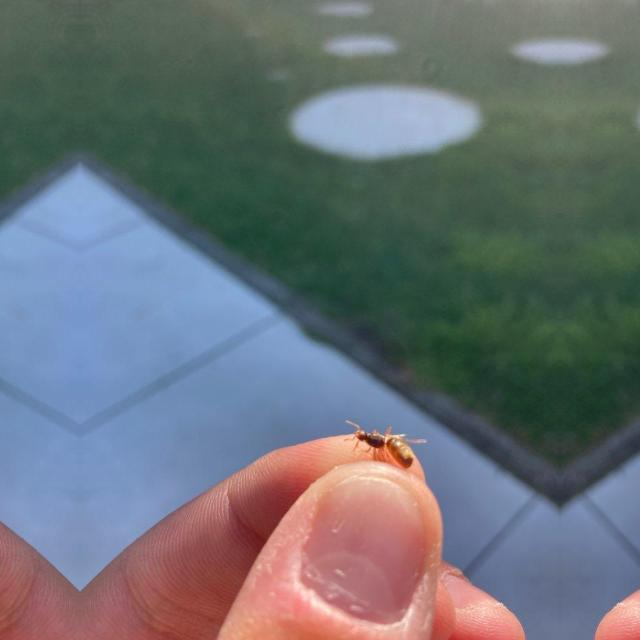Lasius: (352, 424, 418, 468)
